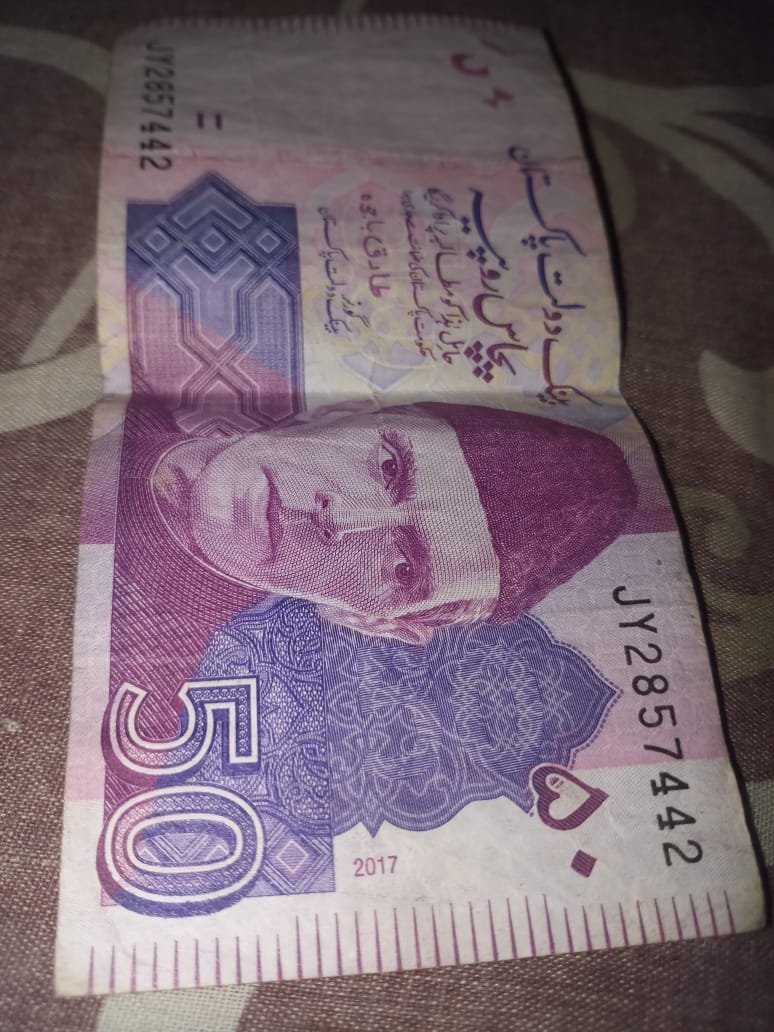50 rupee: (73, 13, 751, 1006)
